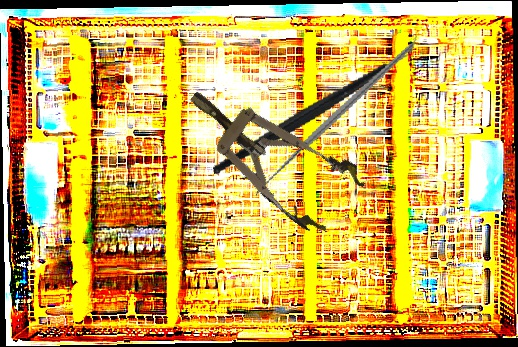Chopper: (195, 31, 437, 177)
Hook Surgical: (230, 42, 441, 205)
Speculum: (169, 62, 371, 242)
